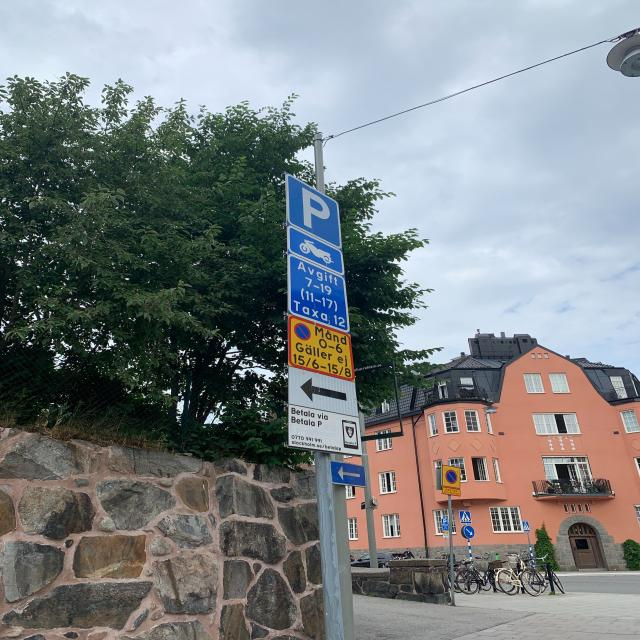psign: (287, 174, 344, 248)
